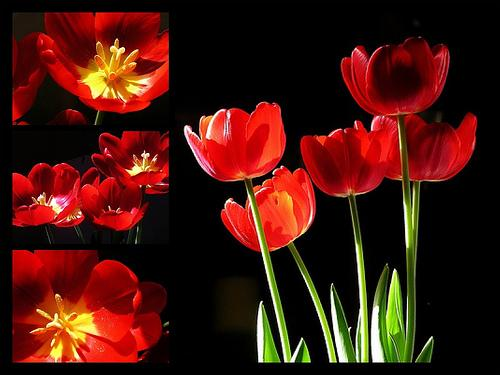tulip: (13, 248, 167, 363), (37, 10, 167, 113), (341, 34, 449, 116), (222, 165, 315, 249), (186, 100, 287, 176), (300, 121, 388, 195), (14, 161, 90, 226), (92, 131, 171, 193), (140, 243, 141, 243)
